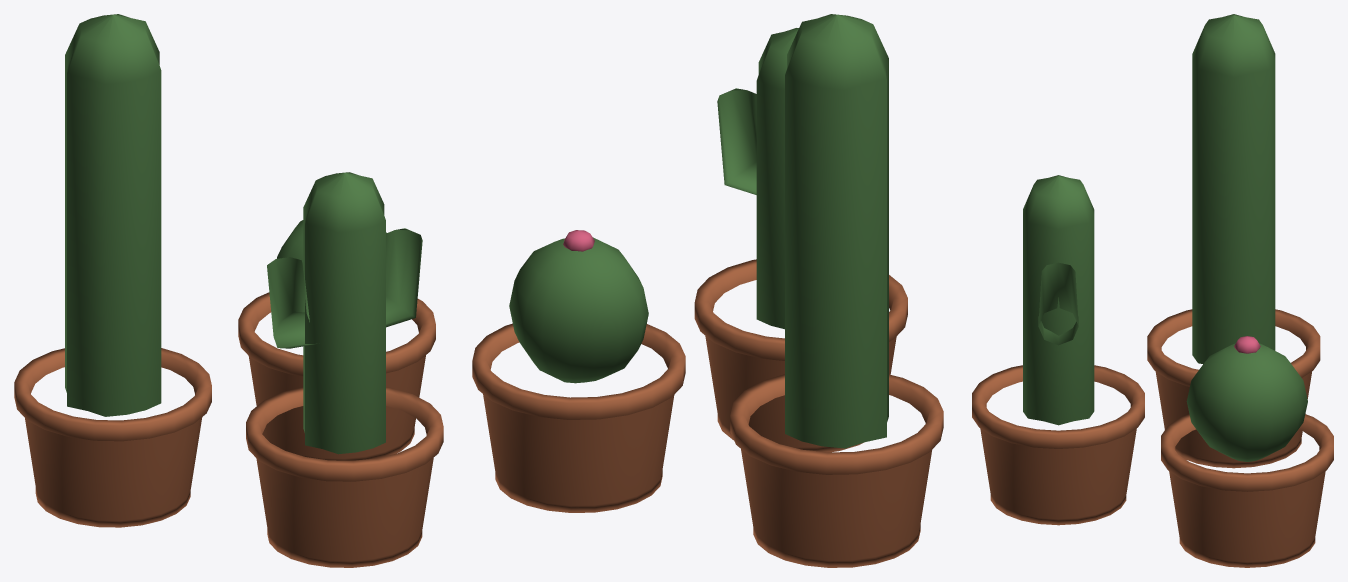
Rendered from garden_cacti.glb.
The picture shows the model from 3 angles, left to right: view 1: azimuth 30°, elevation 25°; view 2: azimuth 150°, elevation 25°; view 3: azimuth 270°, elevation 25°; orthographic projection. The views are drawn at different scales.
Visible parts, largest first — view 1: garden_cacti; view 2: garden_cacti; view 3: garden_cacti.
Boxes of the visible parts, x1,y1,x2,y2 form: garden_cacti: [14, 14, 443, 567]; garden_cacti: [472, 14, 943, 567]; garden_cacti: [972, 14, 1333, 567].
Bounding box in the file's own units: 0.6092 × 0.694 × 0.5366.
